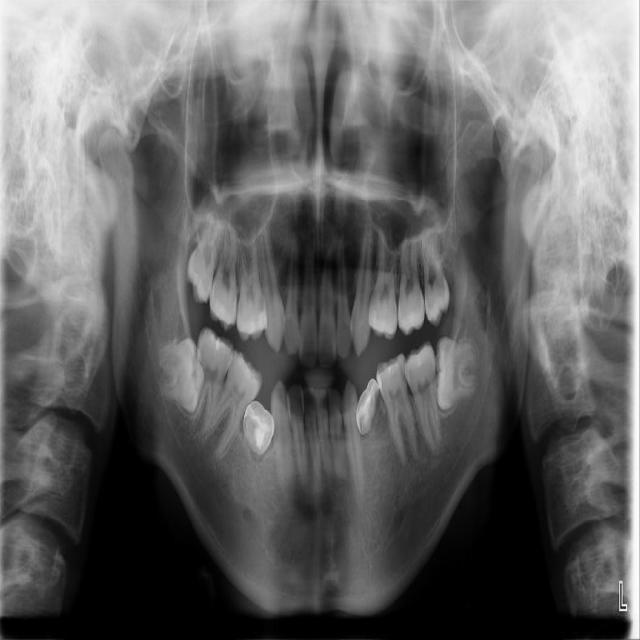impacted tooth: (151, 337, 204, 412), (437, 337, 481, 408)
